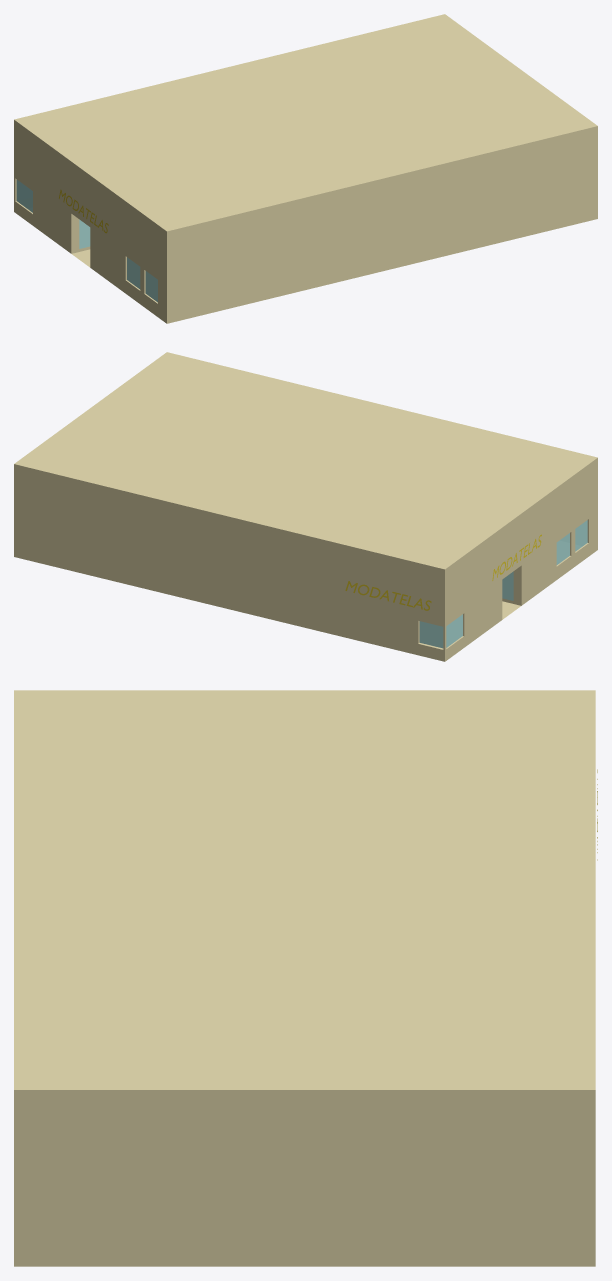
Rendered from modatelas.glb.
The picture shows the model from 3 angles, top to bottom: view 1: azimuth 30°, elevation 25°; view 2: azimuth 150°, elevation 25°; view 3: azimuth 270°, elevation 25°; orthographic projection. The views are drawn at different scales.
Visible parts, largest first — view 1: Cube.001; view 2: Cube.001, Texto.001; view 3: Cube.001.
Boxes of the visible parts, x1,y1,x2,y2 form: Cube.001: (14,14,597,323); Cube.001: (14,352,597,661); Texto.001: (345,581,431,610); Cube.001: (14,690,595,1266).
Size of what is drawn, in the model's own units: 29.1 by 5.98 by 17.9.
